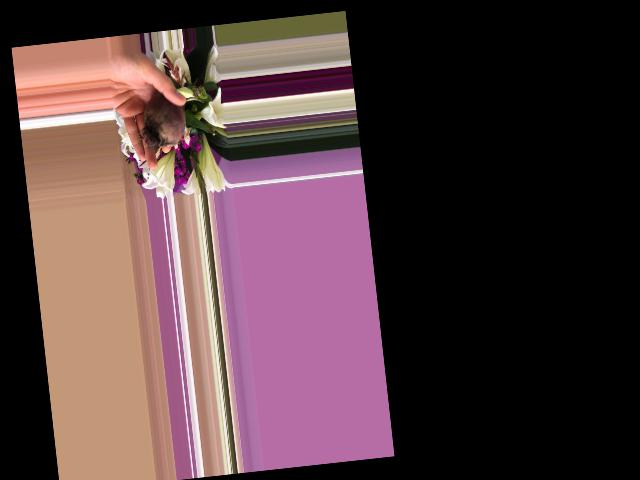beet: (139, 89, 208, 151)
